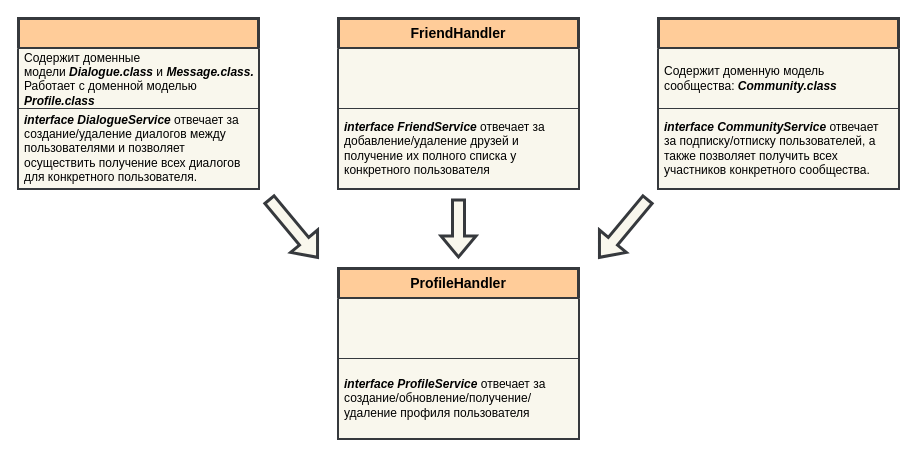
This 917x457 diagram has some shape labels left out. Here are the shapes that lost their labels. From the top down, the box of each, then its label:
(338, 48, 578, 108): Работает с доменной моделью Profile.class
(16, 16, 260, 190): DialogueHandler
(656, 16, 900, 190): CommunityHandler
(338, 298, 578, 358): Содержит доменную модель профиля: Profile.class
